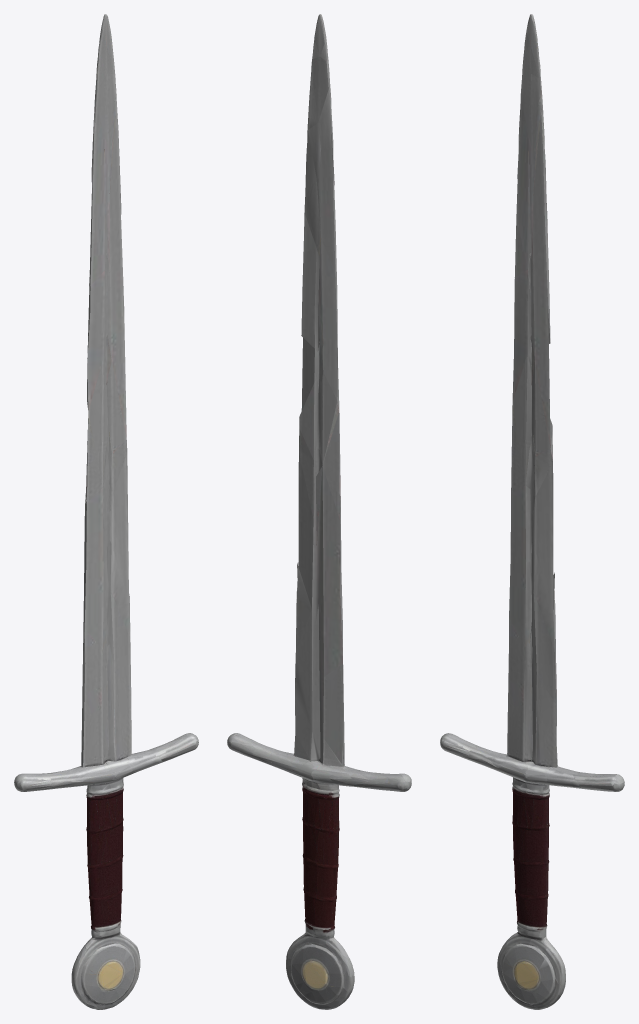
File: arming_sword_p3_w0.glb
3 renders of one model, left to right at view 1: azimuth 30°, elevation 25°; view 2: azimuth 150°, elevation 25°; view 3: azimuth 330°, elevation 25°, orthographic.
Visible parts, largest first — view 1: arming_sword_p3_w0; view 2: arming_sword_p3_w0; view 3: arming_sword_p3_w0.
Boxes of the visible parts, x1,y1,x2,y2 form: arming_sword_p3_w0: [14, 14, 198, 1009]; arming_sword_p3_w0: [227, 14, 411, 1009]; arming_sword_p3_w0: [440, 14, 624, 1009].
Bounding box in the file's own units: 0.1877 × 0.98 × 0.0275.
Materials: 1 (1 with a texture image).
